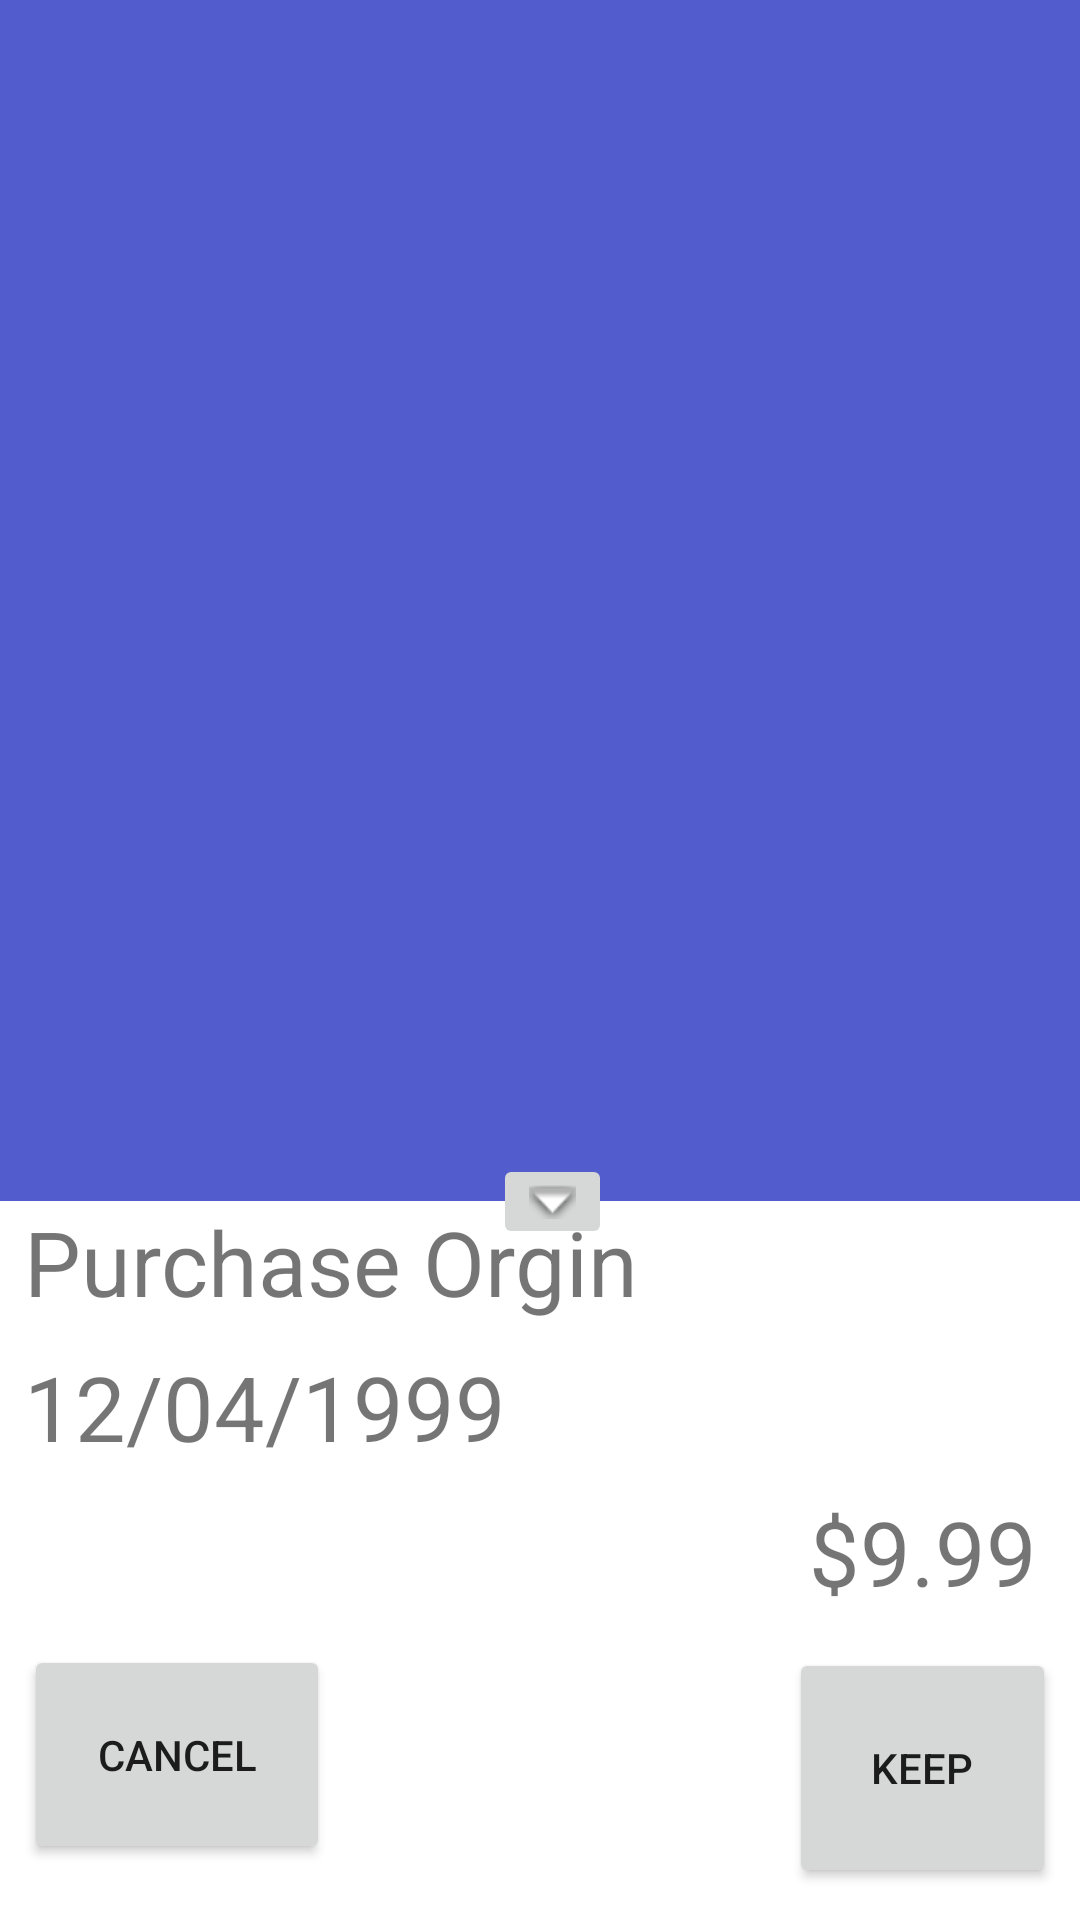

Icons on this 1080 x 1920 Android screen, each with the point to tap as point (x, y):
arrow down float: point (552, 1201)
